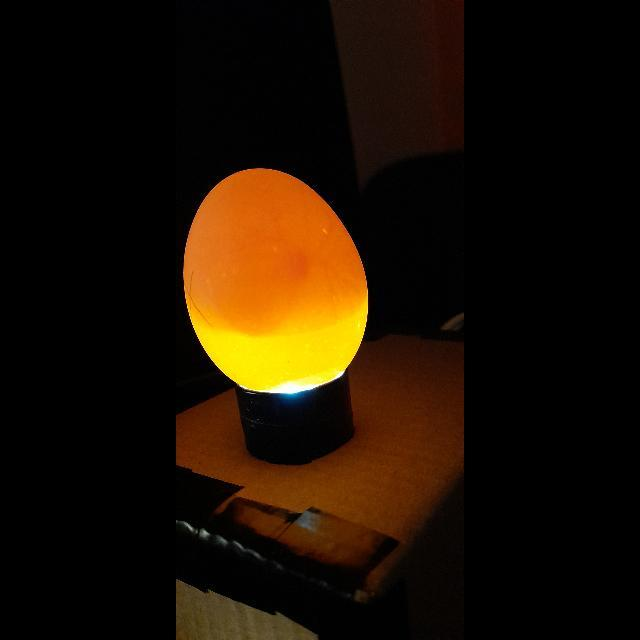Fertile: (176, 162, 374, 394)
